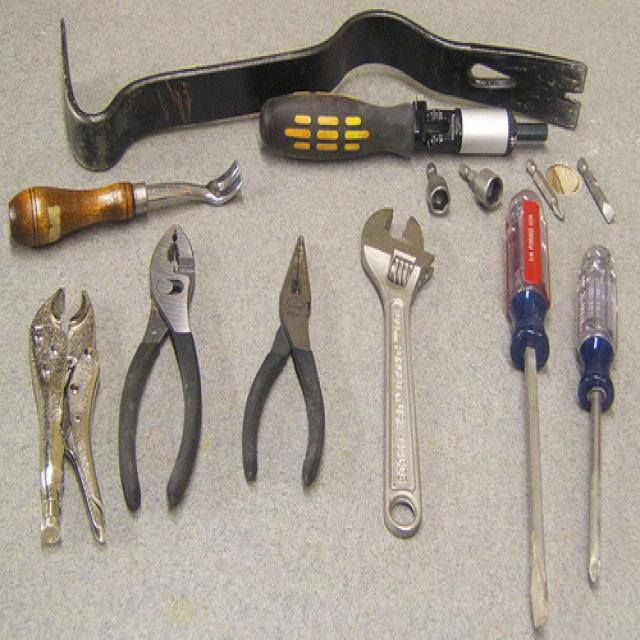wrench: (352, 189, 441, 547)
